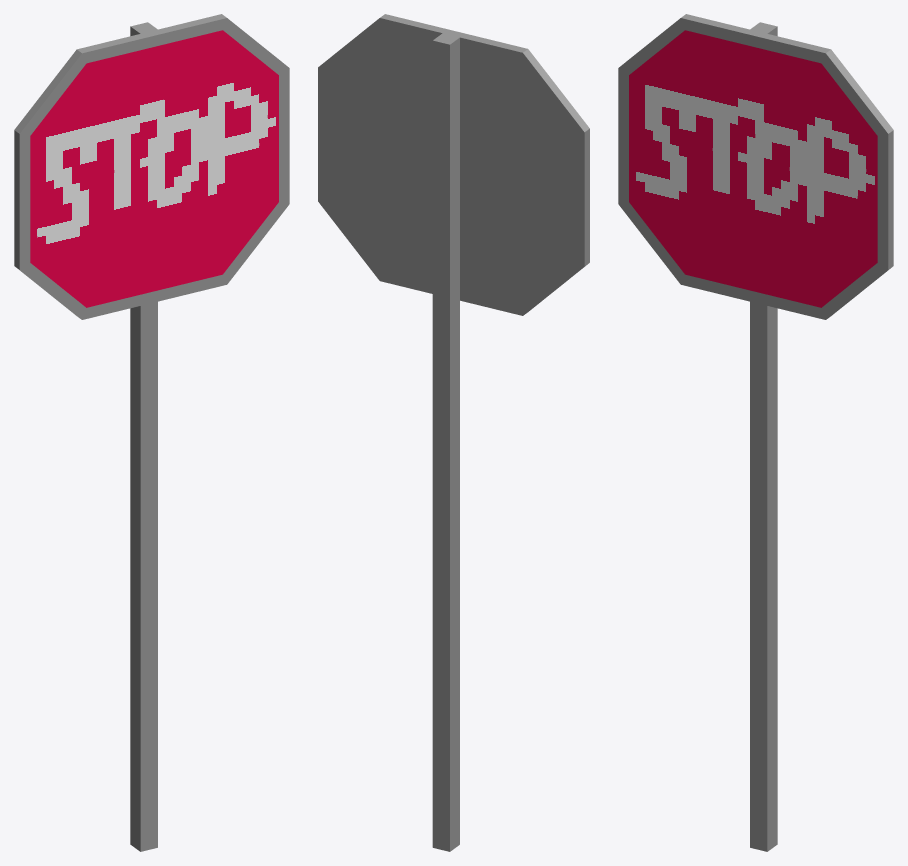
The model's file is sign.glb.
The picture shows the model from 3 angles, left to right: view 1: azimuth 30°, elevation 25°; view 2: azimuth 150°, elevation 25°; view 3: azimuth 330°, elevation 25°; orthographic projection.
Parts seen in each view (by area): view 1: Sign; view 2: Sign; view 3: Sign.
Part boxes in pixels (box(x1,y1,x2,y2)): Sign: box(14, 14, 289, 851); Sign: box(318, 14, 589, 851); Sign: box(618, 14, 893, 851).
Bounding box in the file's own units: 2.09 × 6.04 × 0.2075.
Materials: 2 (1 with a texture image).
